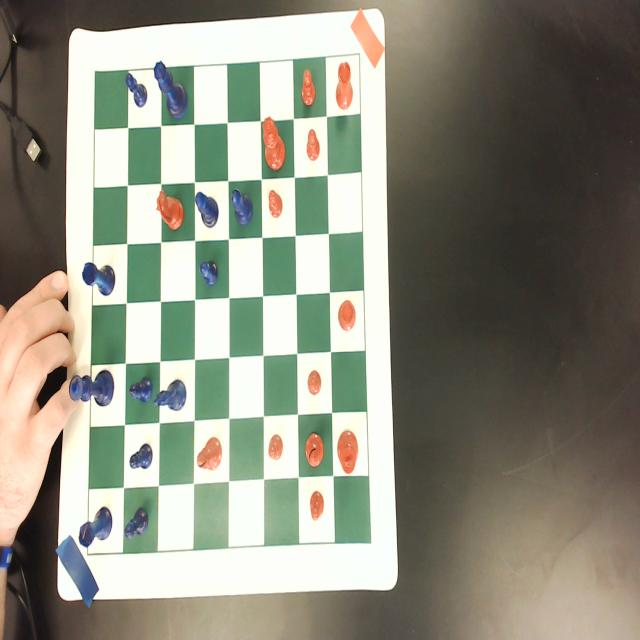B: (195, 191, 219, 229), (230, 190, 253, 228)
K: (69, 368, 114, 407)
N: (153, 376, 187, 413)
P: (124, 73, 148, 108), (123, 506, 149, 538), (128, 442, 153, 472), (129, 375, 153, 404), (200, 260, 218, 287)
Q: (153, 59, 188, 119)
R: (78, 505, 113, 548), (82, 262, 116, 297)
b: (197, 436, 222, 472), (304, 433, 324, 467)
cb: (88, 54, 371, 555)
k: (338, 429, 358, 474)
n: (156, 187, 184, 231)
p: (302, 70, 316, 107), (306, 128, 320, 162), (309, 490, 324, 520), (268, 189, 283, 218), (307, 369, 322, 396), (268, 433, 283, 460)
q: (261, 116, 285, 170)
r: (336, 60, 353, 110), (338, 299, 356, 332)
